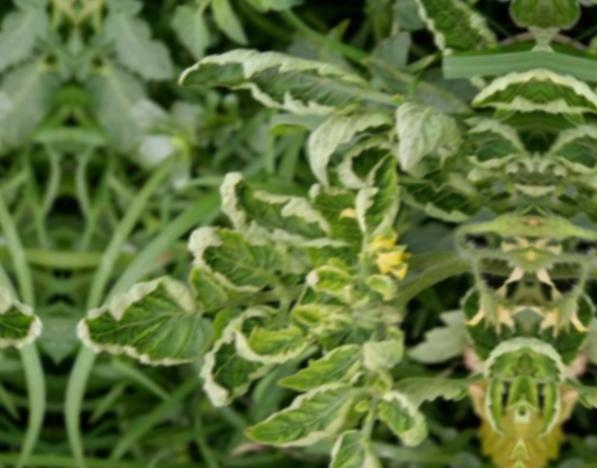Tomato leaf yellow virus: (67, 270, 259, 366), (203, 155, 340, 261), (192, 298, 310, 415), (241, 368, 359, 460), (178, 213, 293, 300), (355, 148, 401, 247), (318, 415, 402, 468), (472, 63, 542, 125), (307, 262, 366, 301)
